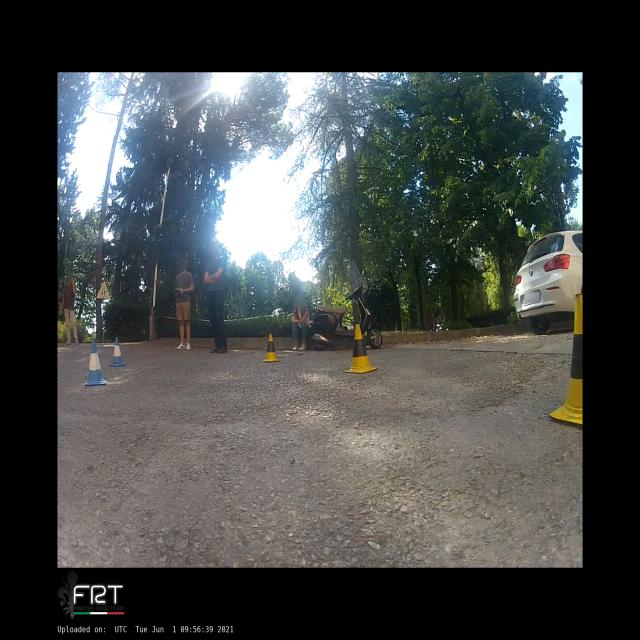blue_cone: (84, 338, 106, 386), (109, 336, 126, 366)
yellow_cone: (549, 294, 582, 428), (342, 324, 378, 373), (262, 333, 280, 362)
